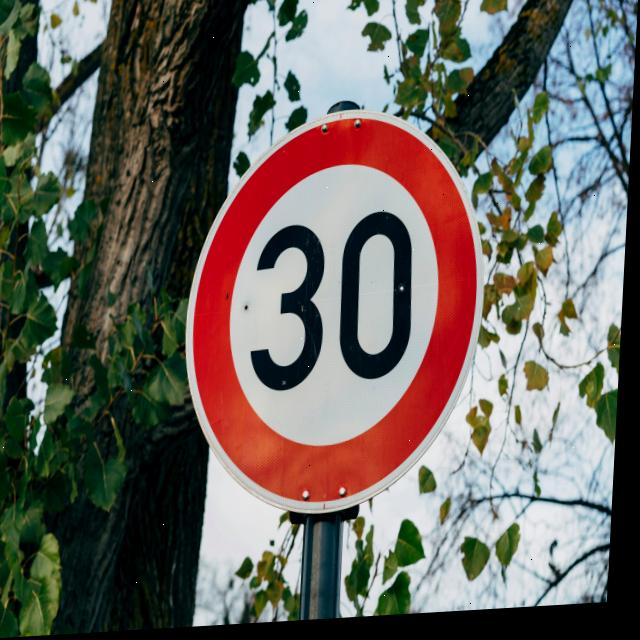Speed limit 30: (181, 104, 497, 528)
